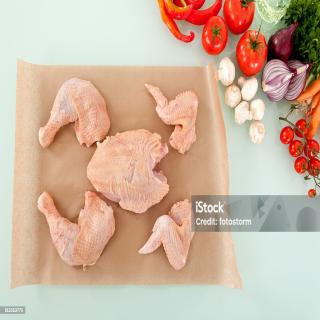Ayam: (87, 128, 171, 216), (37, 190, 118, 274), (38, 78, 113, 151), (138, 198, 197, 273), (145, 82, 201, 157)
Bawang Merah: (261, 58, 299, 106), (267, 20, 300, 66), (284, 57, 314, 104)
Cabai Merah: (157, 1, 225, 47)
Tomat: (236, 29, 271, 80), (202, 14, 230, 58), (224, 1, 257, 37)
